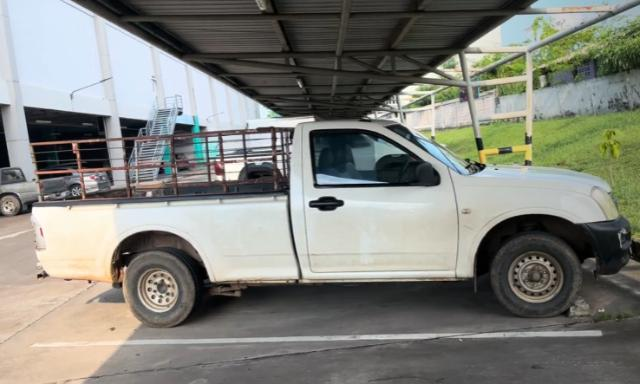pickup-truck: (25, 119, 640, 329)
